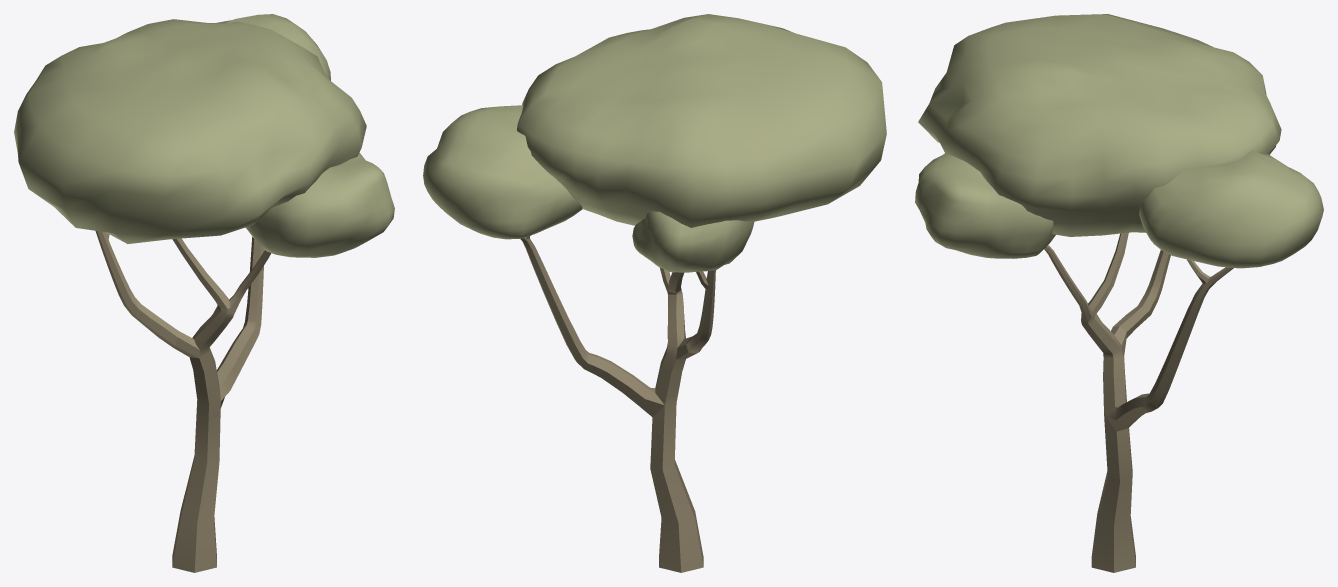
Rendered from large tree.fbx.
The picture shows the model from 3 angles, left to right: view 1: azimuth 30°, elevation 25°; view 2: azimuth 150°, elevation 25°; view 3: azimuth 270°, elevation 25°; orthographic projection.
Visible parts, largest first — view 1: pCube8; view 2: pCube8; view 3: pCube8.
Boxes of the visible parts, x1,y1,x2,y2 form: pCube8: (14, 14, 394, 572); pCube8: (423, 14, 886, 572); pCube8: (915, 14, 1323, 572).
Size of the model in its own units: 312 by 422 by 310.
